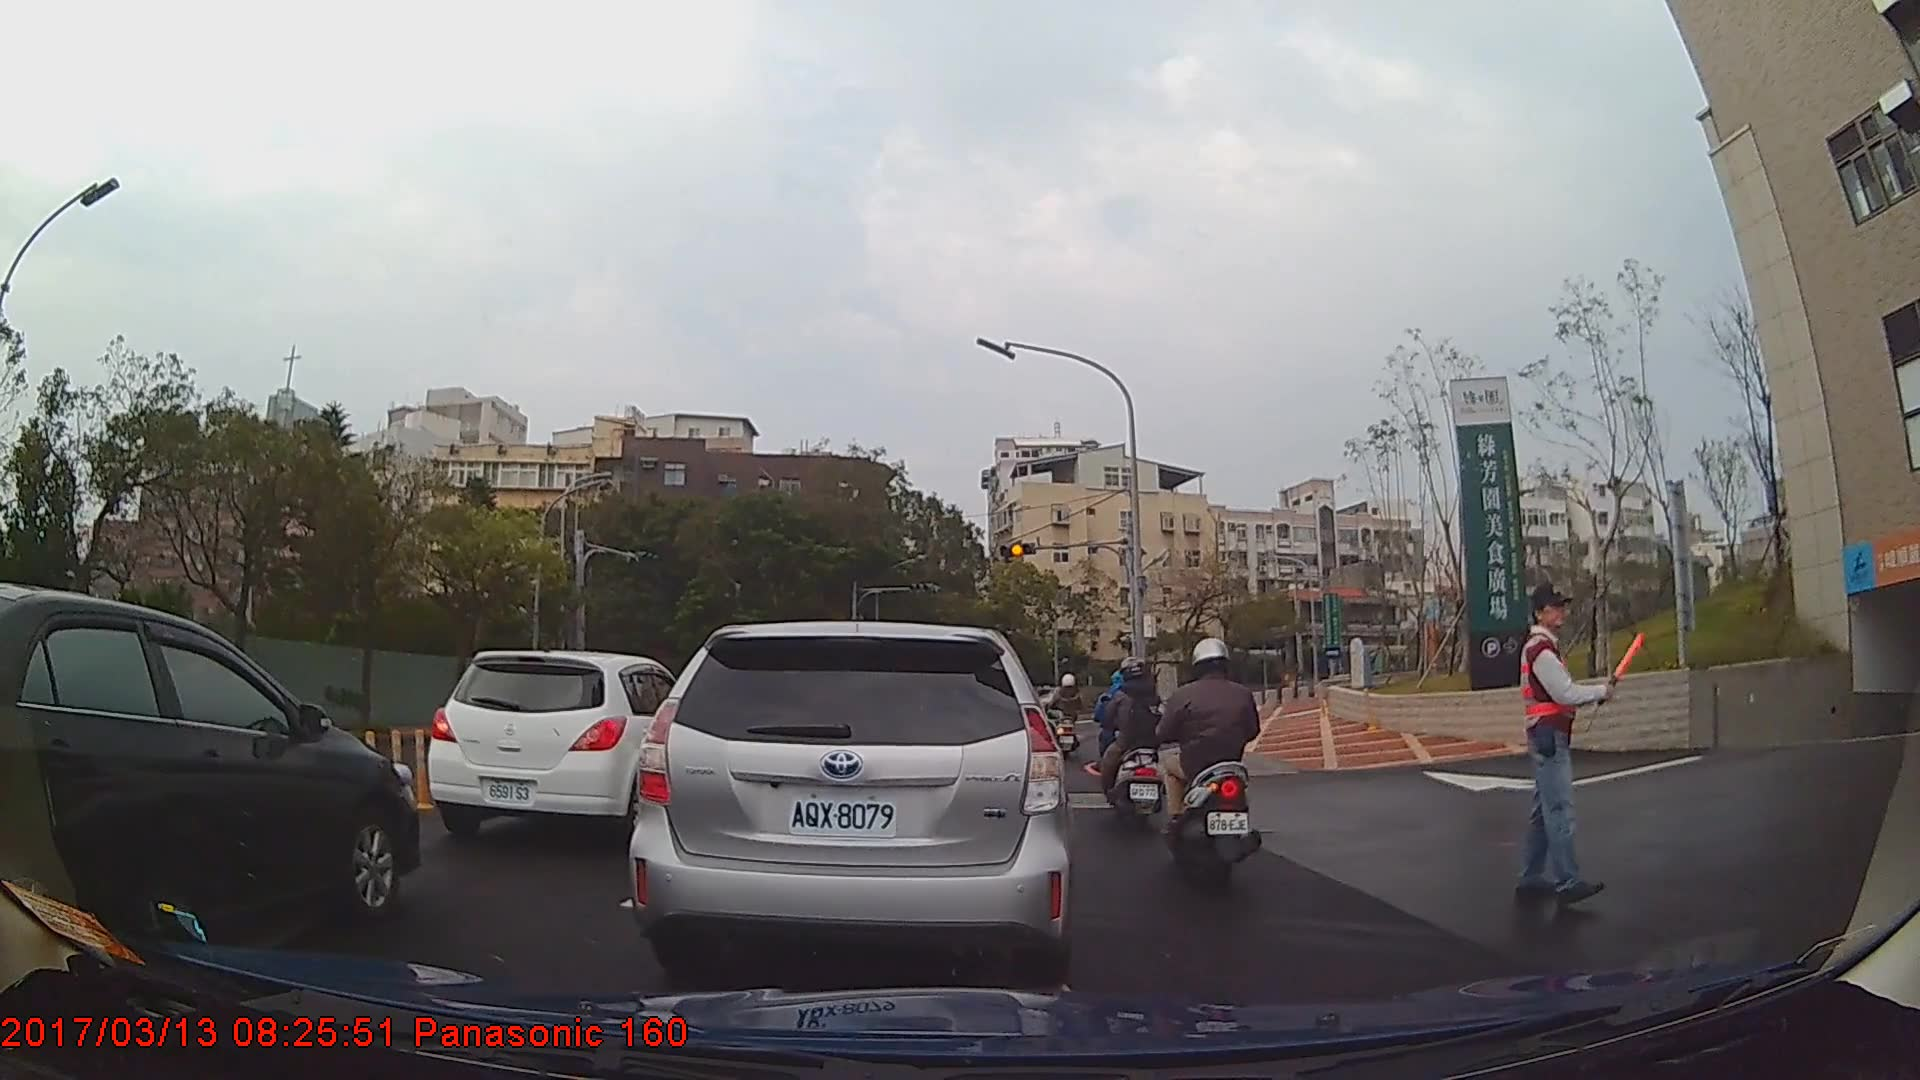pedestrian: (1516, 586, 1645, 902)
rider: (1161, 631, 1266, 898), (1101, 656, 1169, 826), (1052, 671, 1087, 763)
vehicle: (627, 620, 1071, 984), (0, 580, 422, 958), (427, 650, 714, 844)
